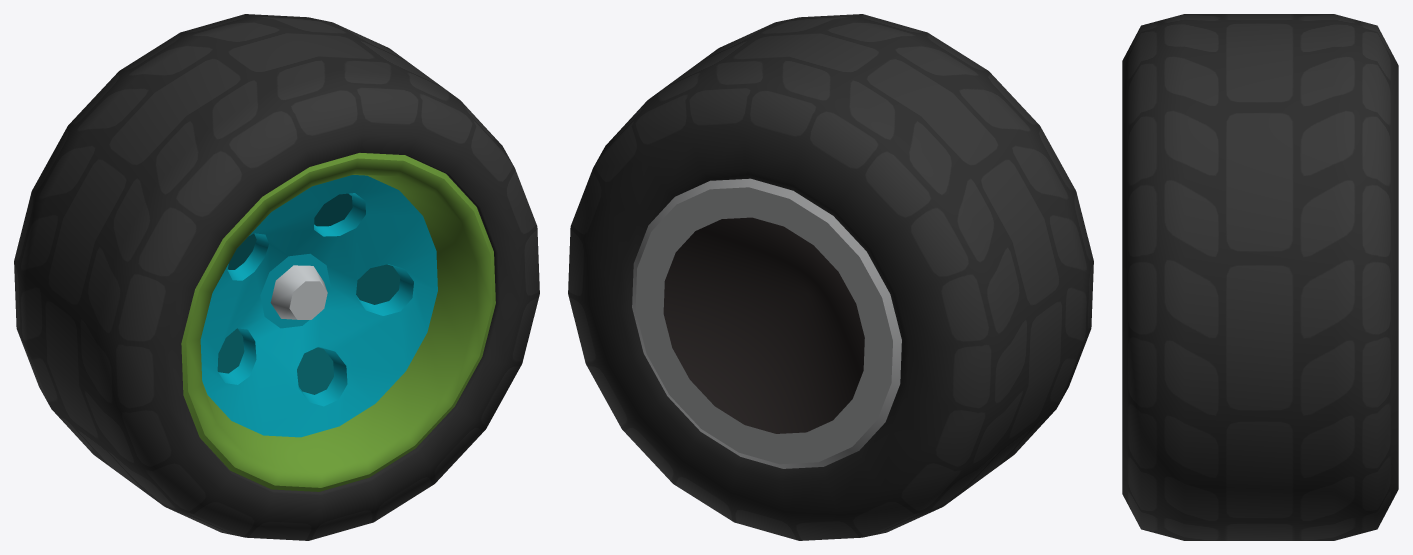
File: Wheel_05.fbx
The picture shows the model from 3 angles, left to right: view 1: azimuth 30°, elevation 25°; view 2: azimuth 150°, elevation 25°; view 3: azimuth 270°, elevation 25°; orthographic projection. The views are drawn at different scales.
Visible parts, largest first — view 1: Wheel_05; view 2: Wheel_05; view 3: Wheel_05.
Part boxes in pixels (left/top/right/bottom): Wheel_05: left=14, top=14, right=539, bottom=540; Wheel_05: left=568, top=14, right=1093, bottom=540; Wheel_05: left=1122, top=14, right=1398, bottom=540.
Bounding box in the file's own units: 95 × 50 × 95.
